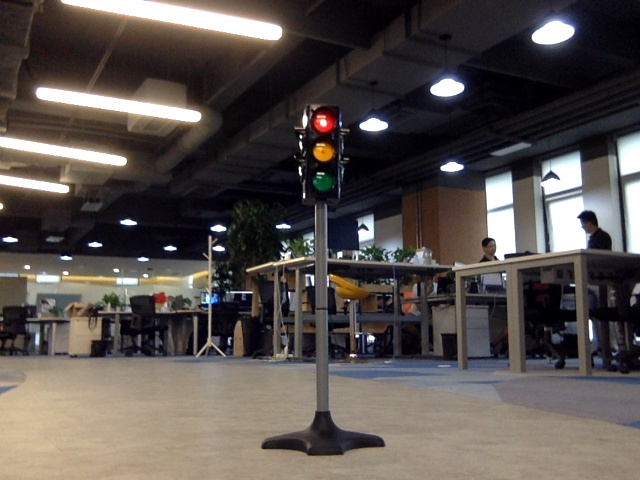red: (306, 109, 339, 194)
